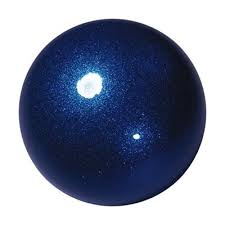blue ball: (18, 18, 207, 207)
